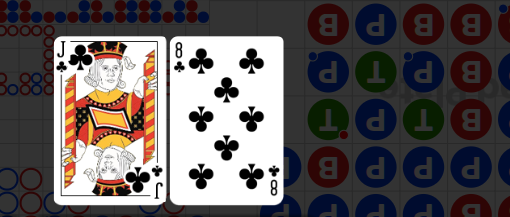8C: (267, 163, 281, 197)
JC: (54, 40, 69, 74)
